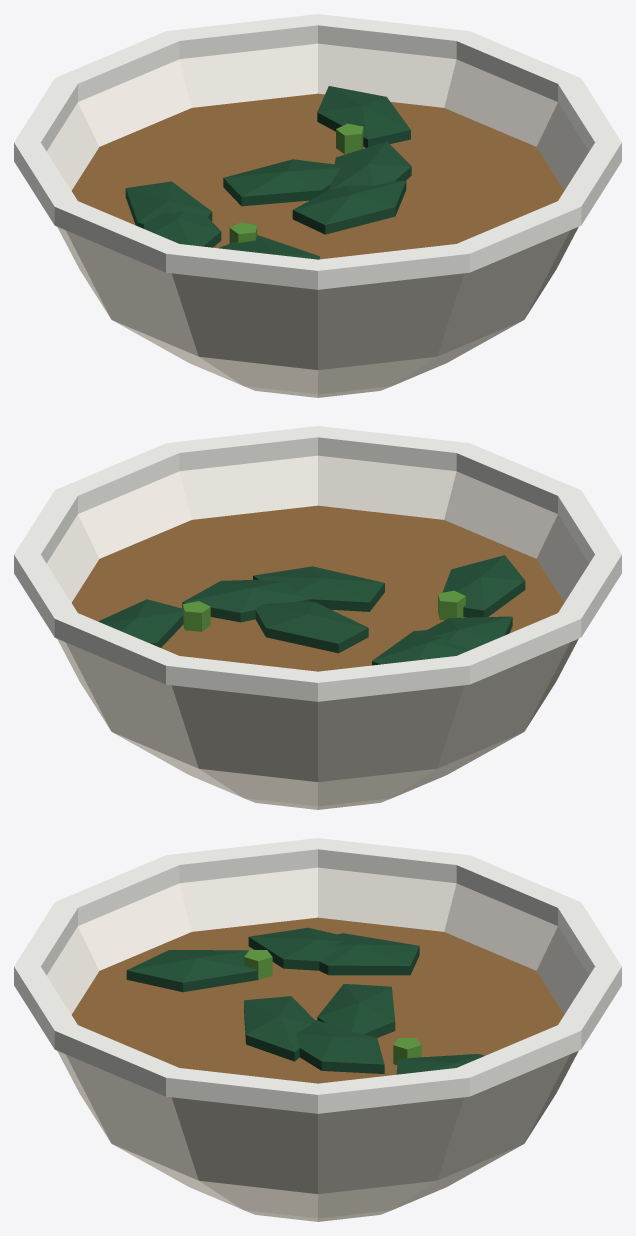
Rendered from Food_SeaweedSoup.obj.
The picture shows the model from 3 angles, top to bottom: view 1: azimuth 30°, elevation 25°; view 2: azimuth 150°, elevation 25°; view 3: azimuth 270°, elevation 25°; orthographic projection.
Bounding box in the file's own units: 2.04 × 0.75 × 2.04.
